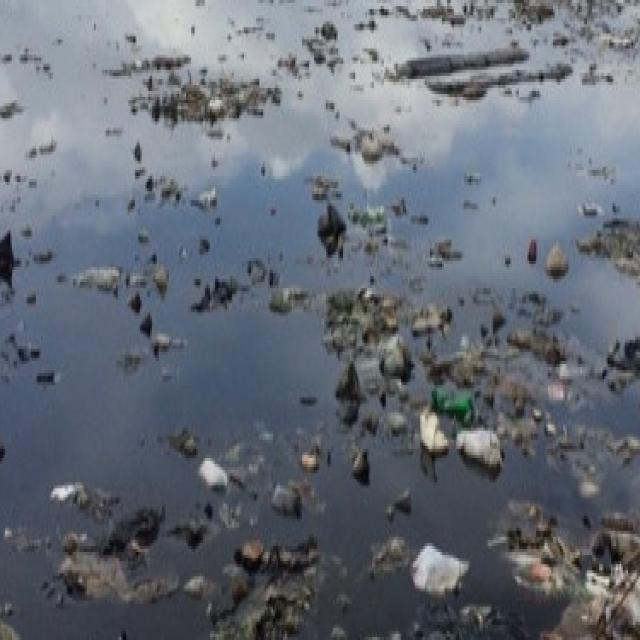-: (0, 46, 640, 640)
